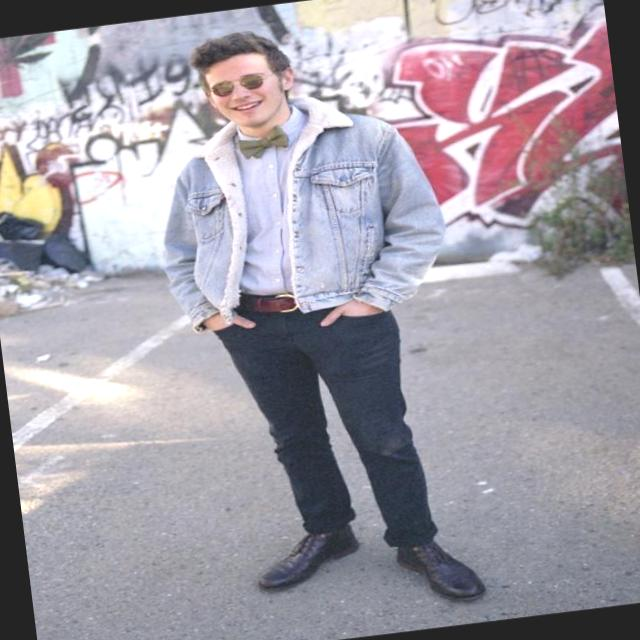pants: (208, 273, 442, 565)
sweater: (146, 81, 451, 340)
